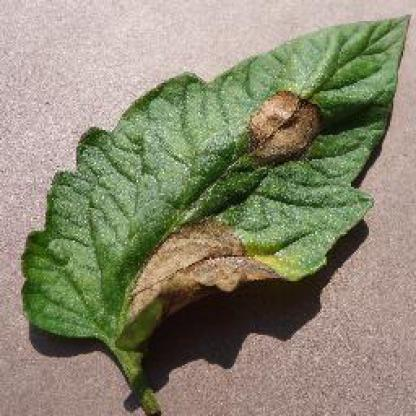bad leaf: (126, 219, 283, 308), (240, 89, 326, 168)
